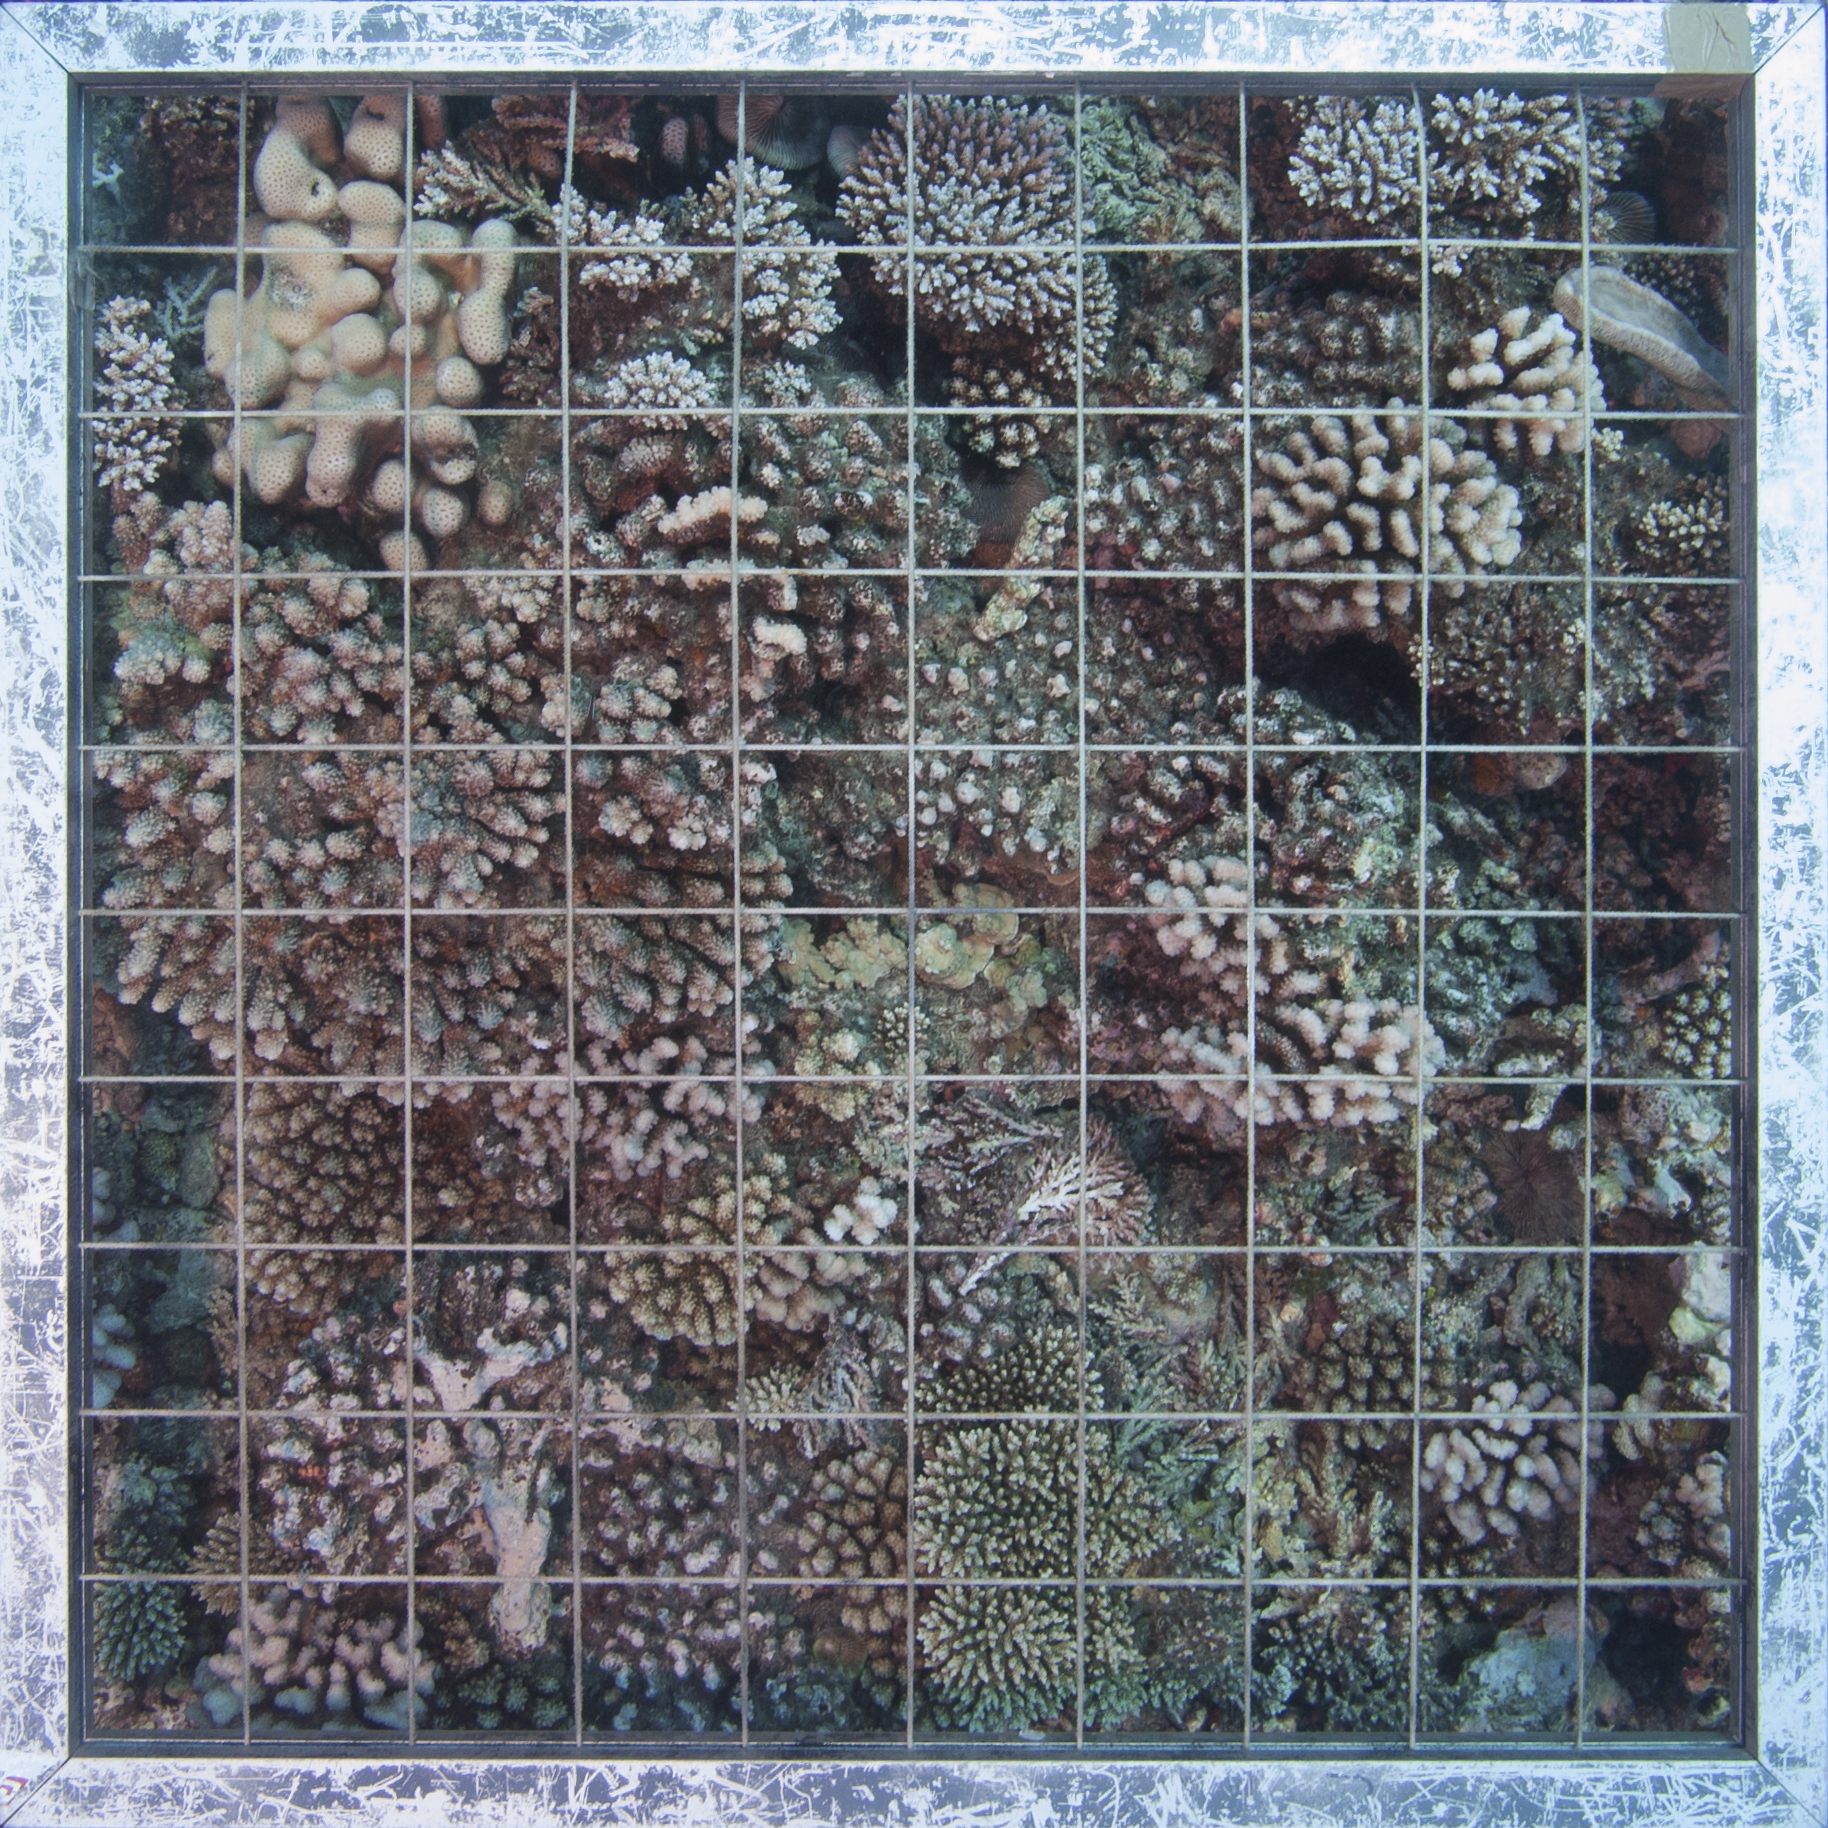alive: (1252, 410, 1523, 633)
